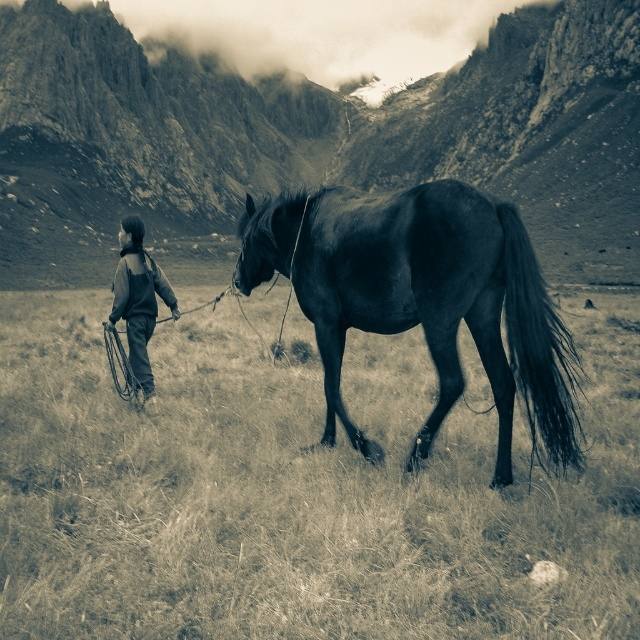Horse: (234, 175, 592, 489)
